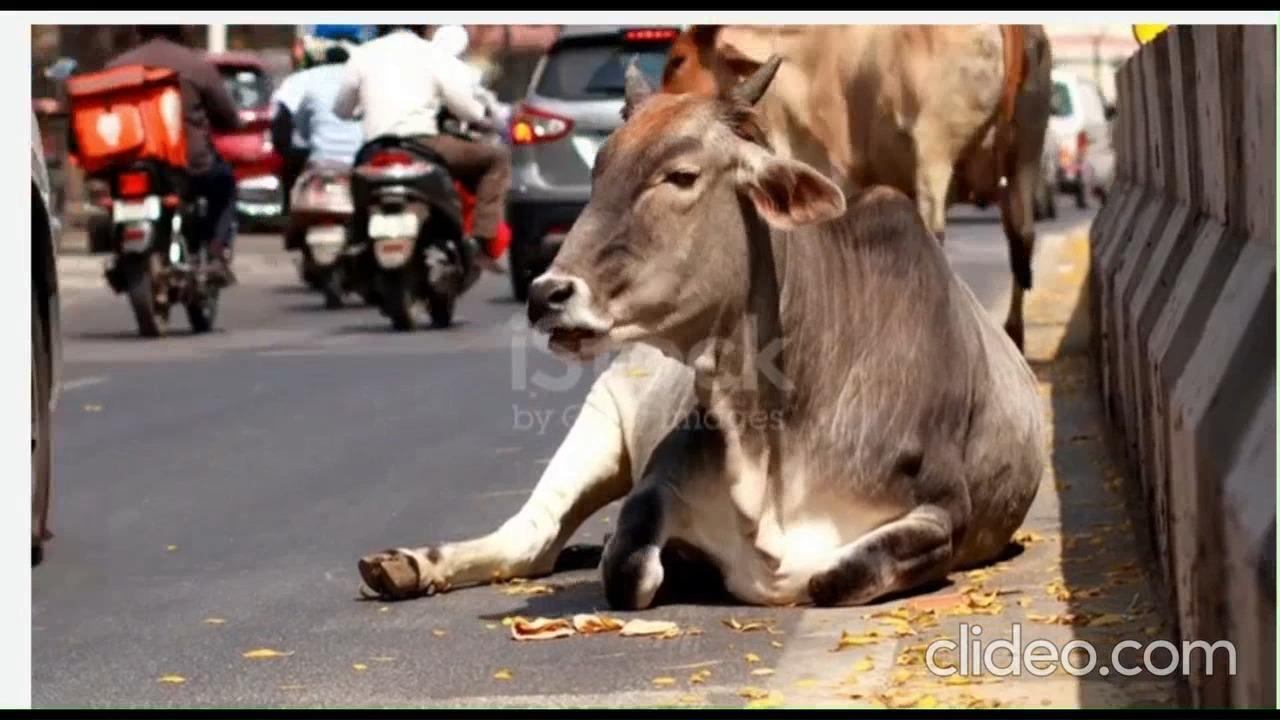Cow: (354, 54, 1049, 627), (659, 27, 1049, 346)
